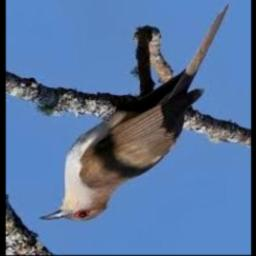Cuckoo: (39, 4, 229, 221)
